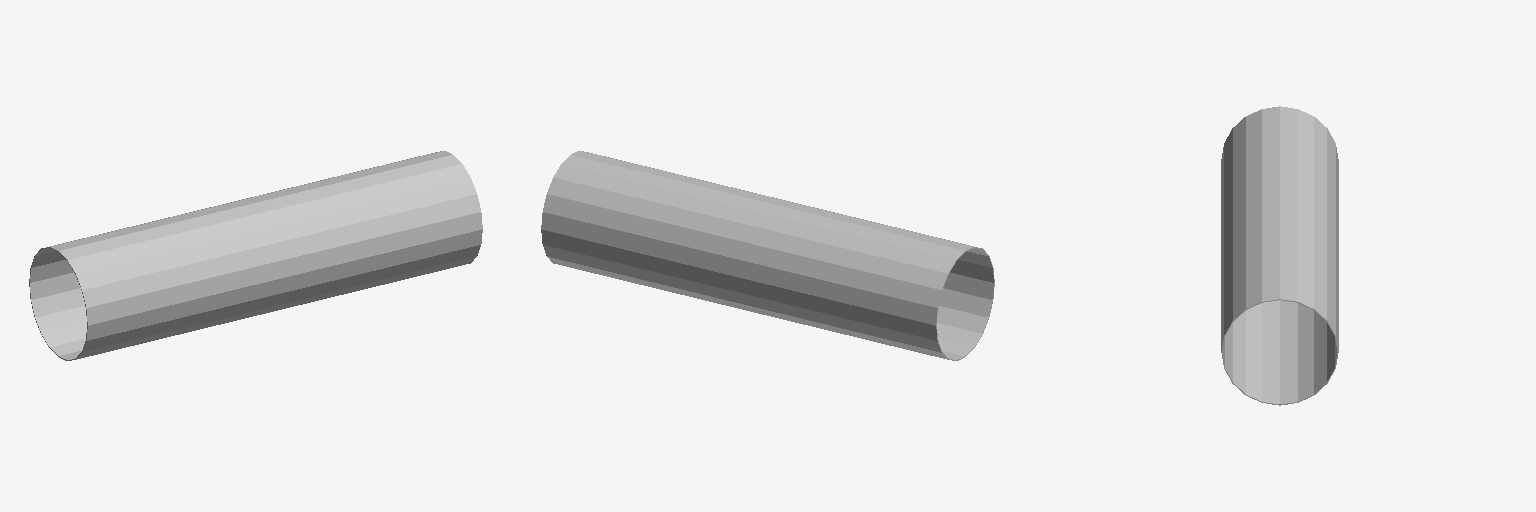
File: magic.obj
3 views of the same model, side by side, from view 1: azimuth 30°, elevation 25°; view 2: azimuth 150°, elevation 25°; view 3: azimuth 270°, elevation 25° (orthographic).
Bounding box in the file's own units: 18.2 × 4.68 × 4.68.